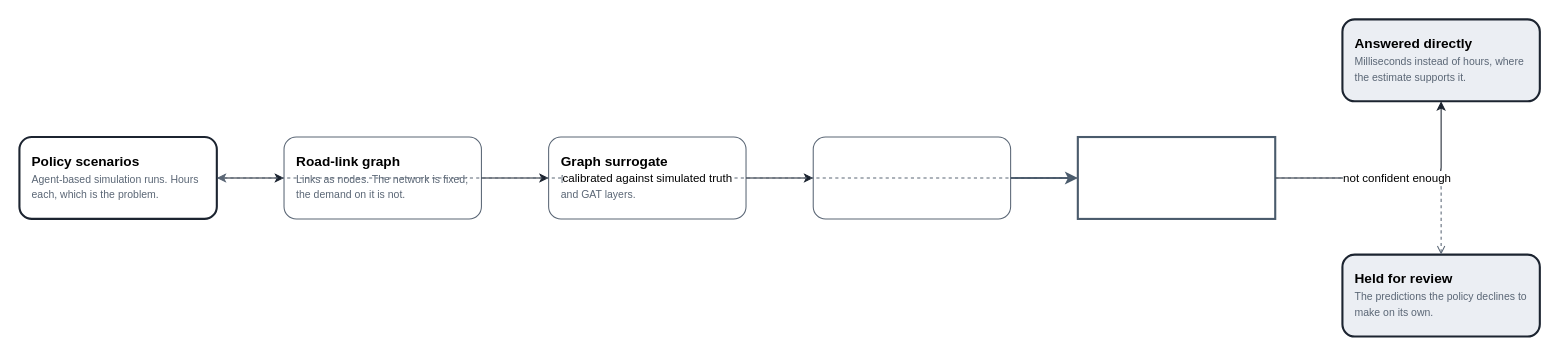
Image size: 1558x355. Some labels were removed from this diagram. The shapes that lost their labels are listed below. From the top down, each one's box as (x1, y1, x2, y2) in pixels, then its label:
(812, 136, 1011, 219): Uncertainty estimate How unsure the surrogate is, per junction, not per run.
(1076, 135, 1276, 219): Review policy Reads the uncertainty and decides whether to answer at all.
